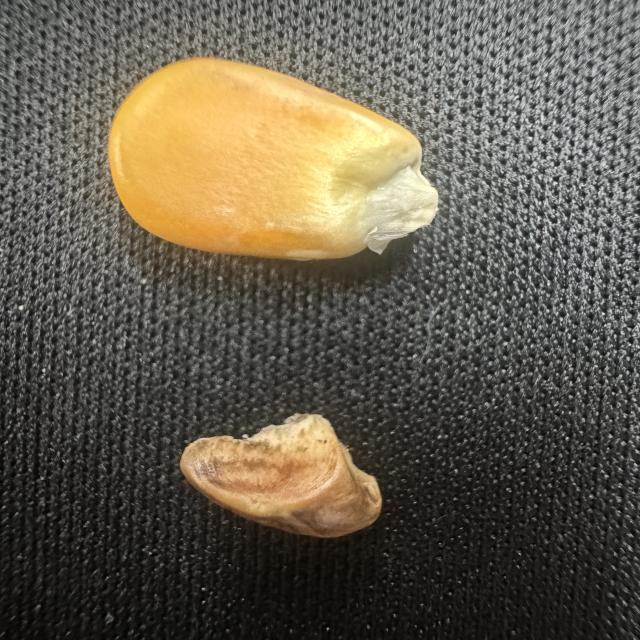Bad-Seed: (182, 398, 376, 552)
Good-Seed: (85, 51, 443, 271)
